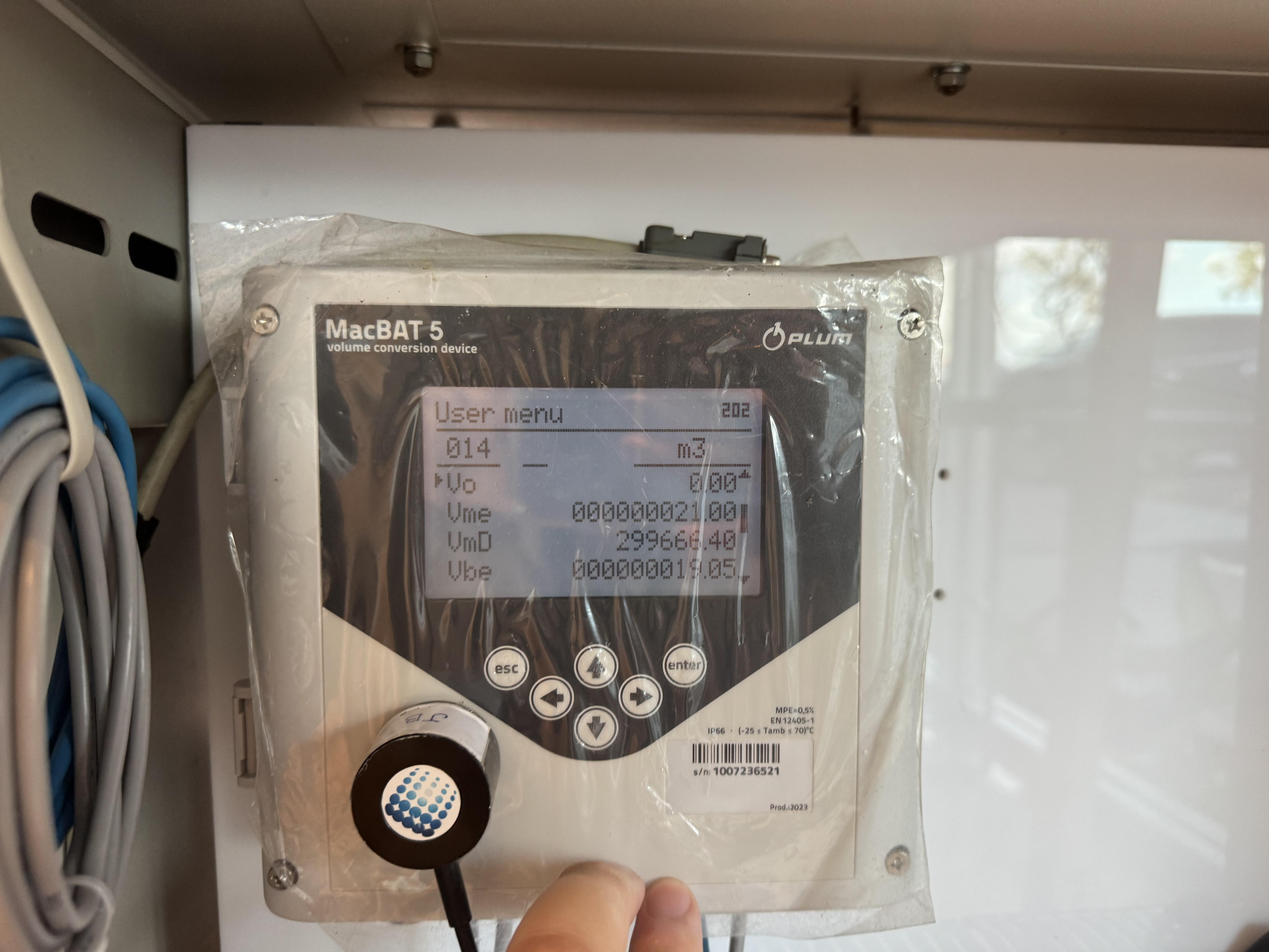digital_screen: (422, 389, 764, 599)
